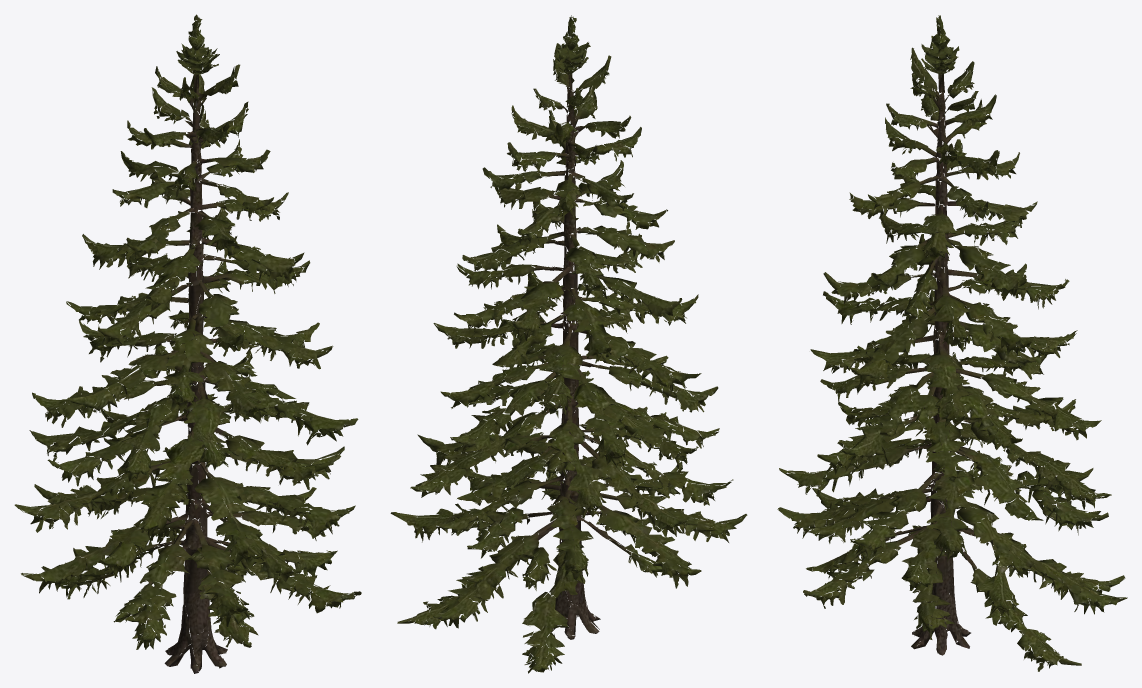
File: snowy_alpine_spruce.glb
3 views of the same model, side by side, from view 1: azimuth 30°, elevation 25°; view 2: azimuth 150°, elevation 25°; view 3: azimuth 270°, elevation 25° (orthographic). The views are drawn at different scales.
Visible parts, largest first — view 1: tripo_node_4da9c197-13a6-44ec-b07f-095e9ac5d600; view 2: tripo_node_4da9c197-13a6-44ec-b07f-095e9ac5d600; view 3: tripo_node_4da9c197-13a6-44ec-b07f-095e9ac5d600.
Part boxes in pixels (x1=…): tripo_node_4da9c197-13a6-44ec-b07f-095e9ac5d600: x1=14, y1=14, x2=361, y2=673; tripo_node_4da9c197-13a6-44ec-b07f-095e9ac5d600: x1=390, y1=15, x2=747, y2=673; tripo_node_4da9c197-13a6-44ec-b07f-095e9ac5d600: x1=777, y1=15, x2=1127, y2=671.
Bounding box in the file's own units: 6.04 × 11.98 × 6.06.
Materials: 1 (1 with a texture image).
